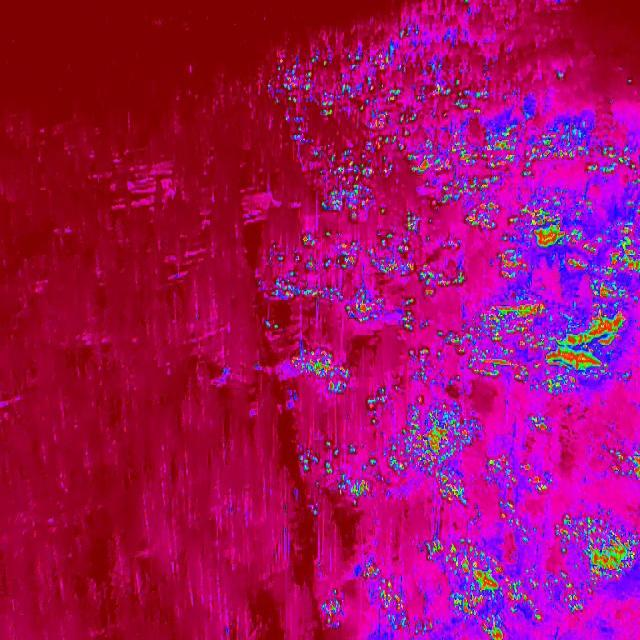fire: (266, 27, 522, 233), (464, 304, 637, 404), (258, 233, 468, 297), (422, 537, 545, 640), (521, 202, 640, 302), (386, 404, 486, 505), (556, 507, 640, 615), (522, 132, 636, 182), (296, 442, 382, 502), (481, 454, 553, 518), (288, 340, 359, 400), (348, 297, 416, 334), (362, 560, 406, 614), (418, 326, 467, 362), (490, 247, 527, 285), (317, 587, 347, 629), (612, 440, 640, 484), (522, 408, 554, 438)
